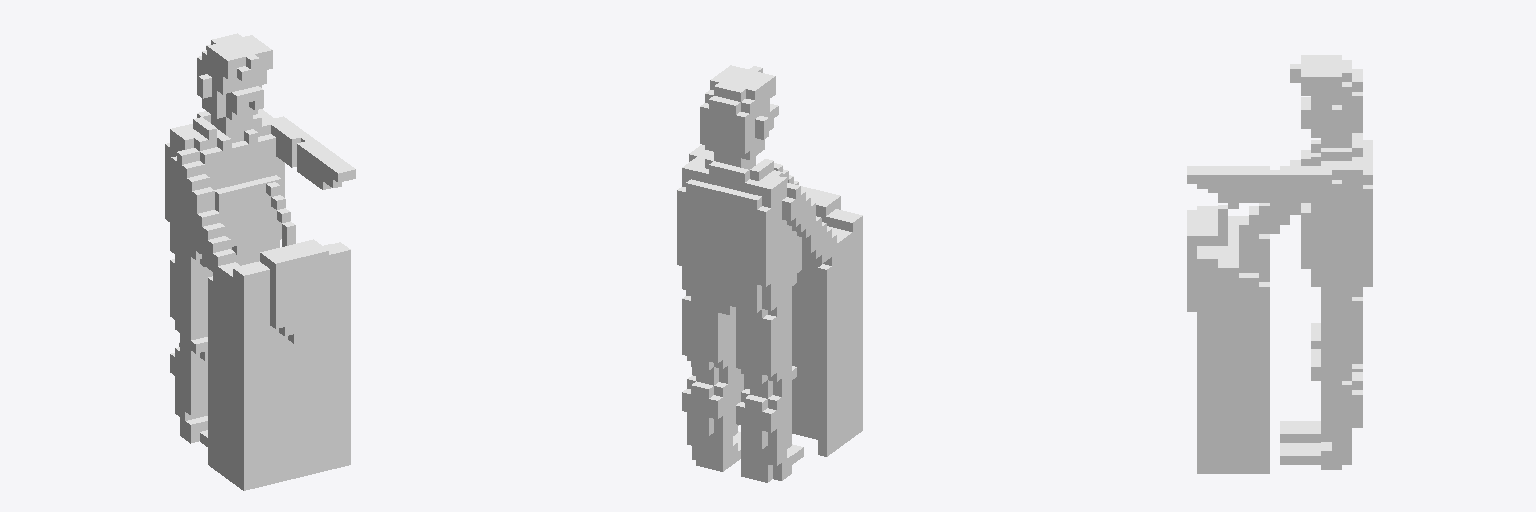
The model's file is Dictators-1.obj.
3 renders of one model, left to right at view 1: azimuth 30°, elevation 25°; view 2: azimuth 150°, elevation 25°; view 3: azimuth 270°, elevation 25°, orthographic.
Parts seen in each view (by area): view 1: object 1; view 2: object 1; view 3: object 1.
Part boxes in pixels (left/top/right/bottom): object 1: left=165, top=33, right=355, bottom=490; object 1: left=677, top=65, right=862, bottom=482; object 1: left=1187, top=55, right=1372, bottom=473.
Size of the model in its own units: 1.2 by 4.1 by 1.8.